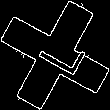L_NW: (25, 29, 85, 81)
